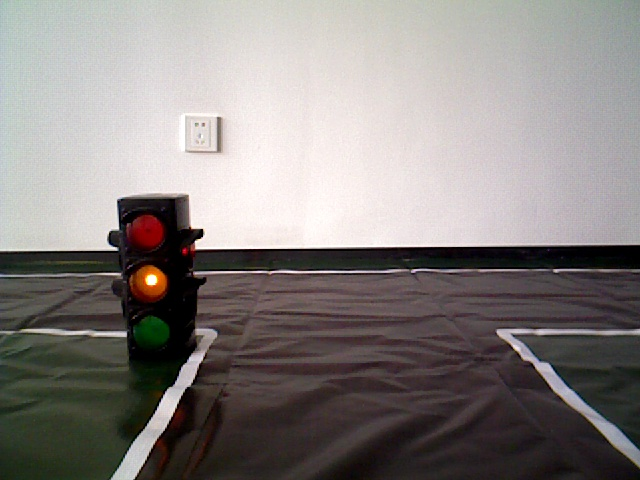yellow: (116, 194, 196, 358)
